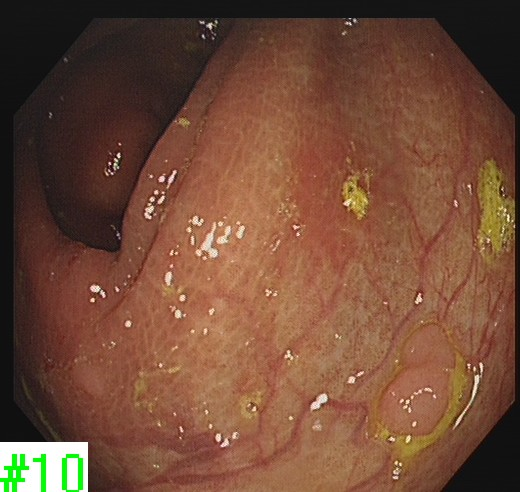adenoma: (373, 320, 457, 439)
